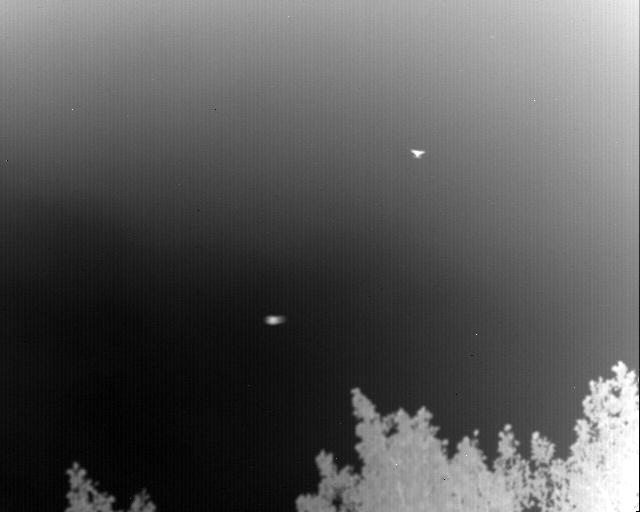plane: (410, 148, 425, 158)
